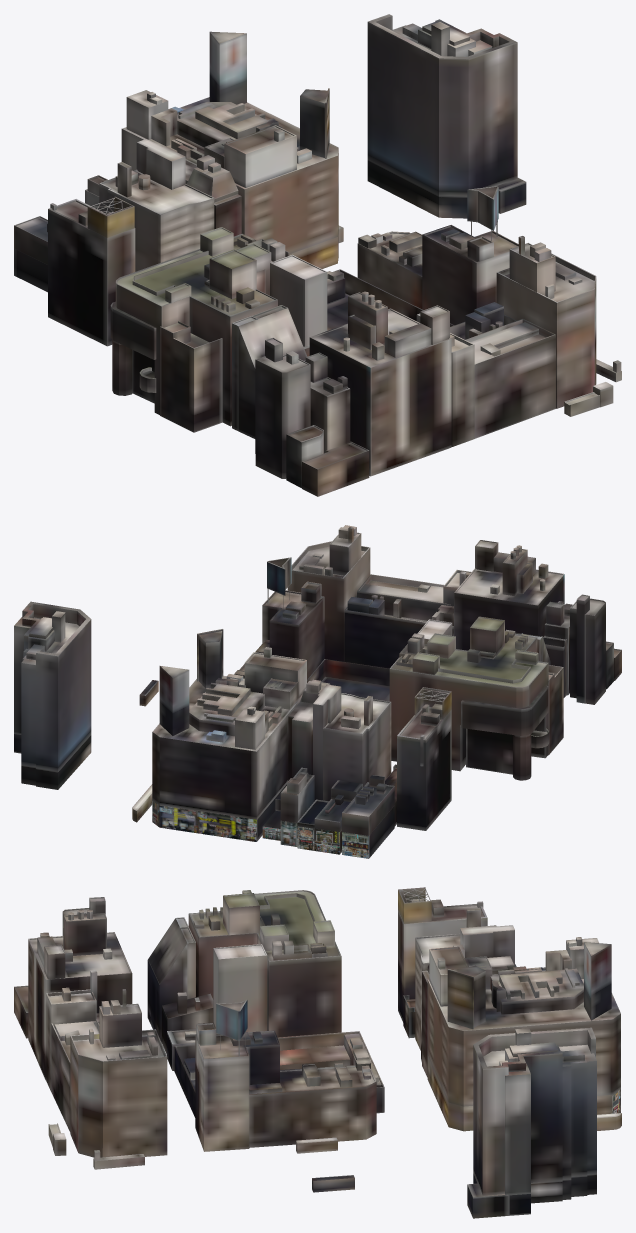
The model's file is data44.glb.
3 views of the same model, one above another, from view 1: azimuth 30°, elevation 25°; view 2: azimuth 150°, elevation 25°; view 3: azimuth 270°, elevation 25° (orthographic). The views are drawn at different scales.
Visible parts, largest first — view 1: PLATEAU data44 photographic walls; view 2: PLATEAU data44 photographic walls; view 3: PLATEAU data44 photographic walls.
Part boxes in pixels (x1,y1,x2,y2): PLATEAU data44 photographic walls: (14, 14, 621, 496); PLATEAU data44 photographic walls: (14, 525, 621, 858); PLATEAU data44 photographic walls: (14, 887, 621, 1218).
Size of the model in its own units: 151 by 50.72 by 170.
Materials: 2 (1 with a texture image).
